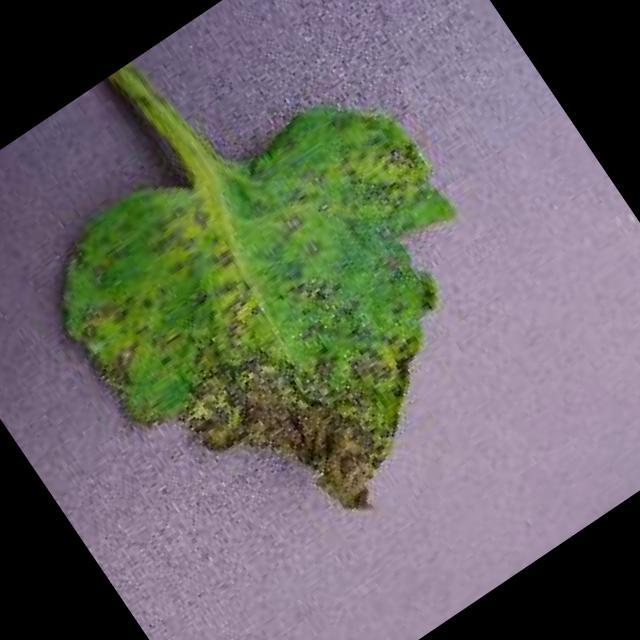Tomato Septoria spot leaf: (22, 44, 575, 596)
